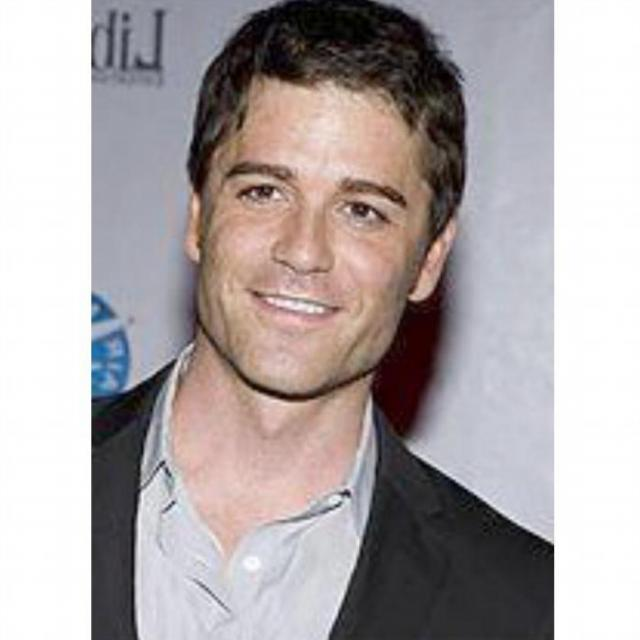live: (184, 44, 453, 408)
